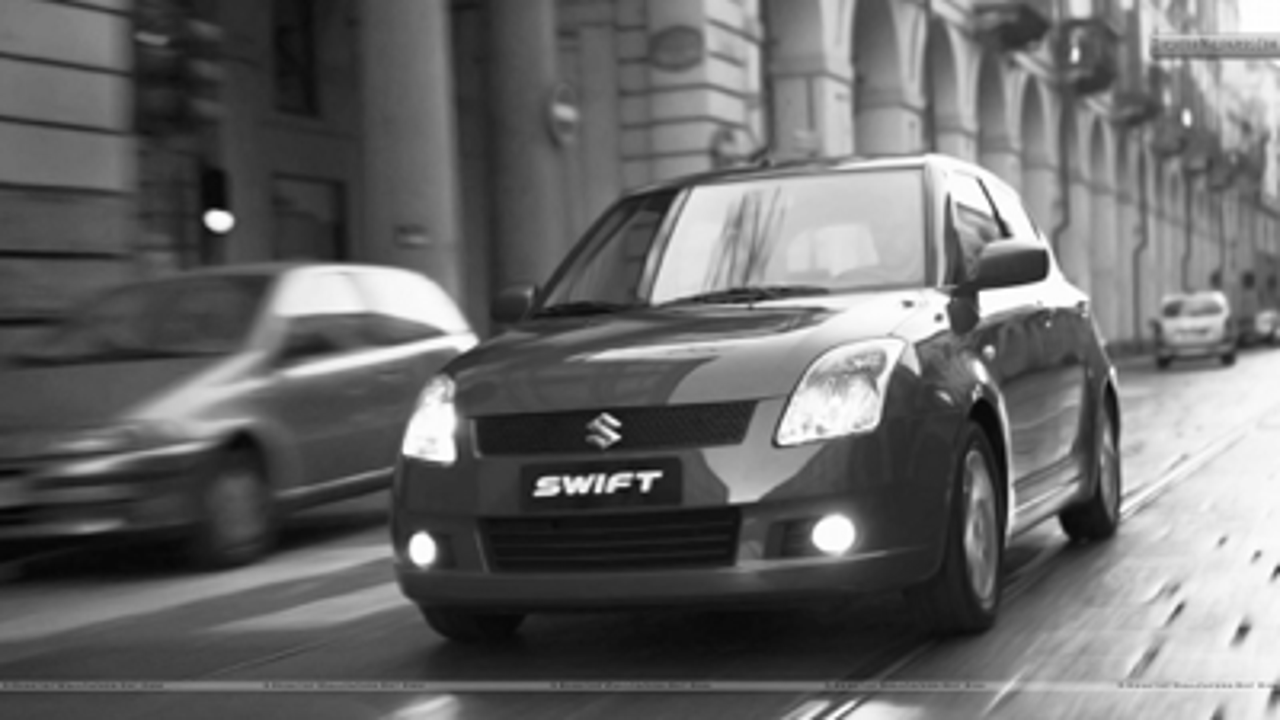license: (518, 455, 690, 512)
